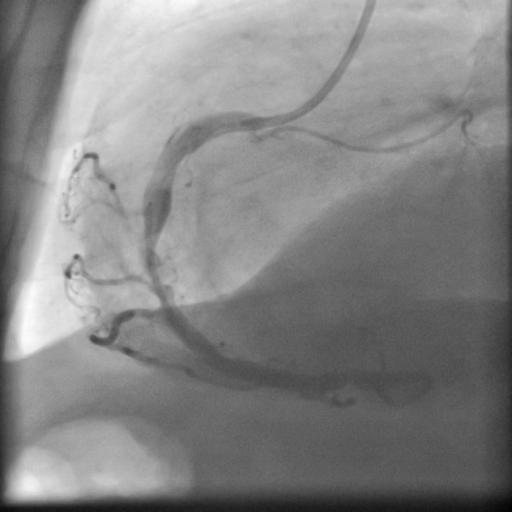Stenosis: (140, 244, 173, 298)
